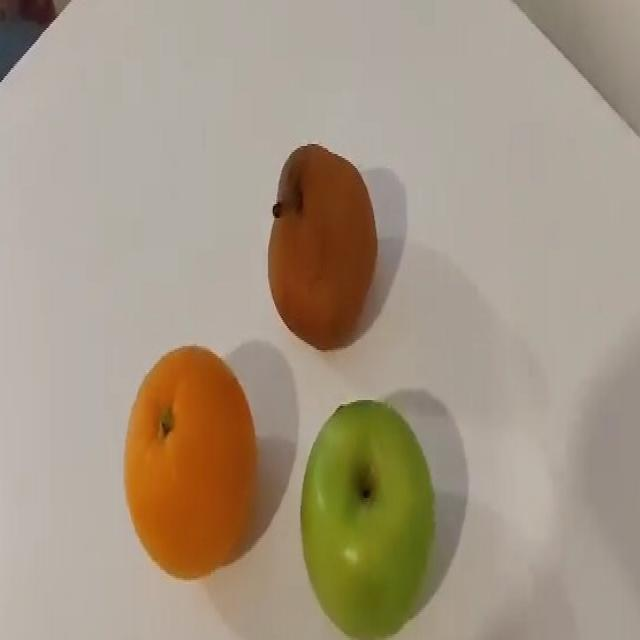Apple: (299, 398, 436, 639), (266, 142, 378, 350)
Orange: (122, 344, 257, 579)
